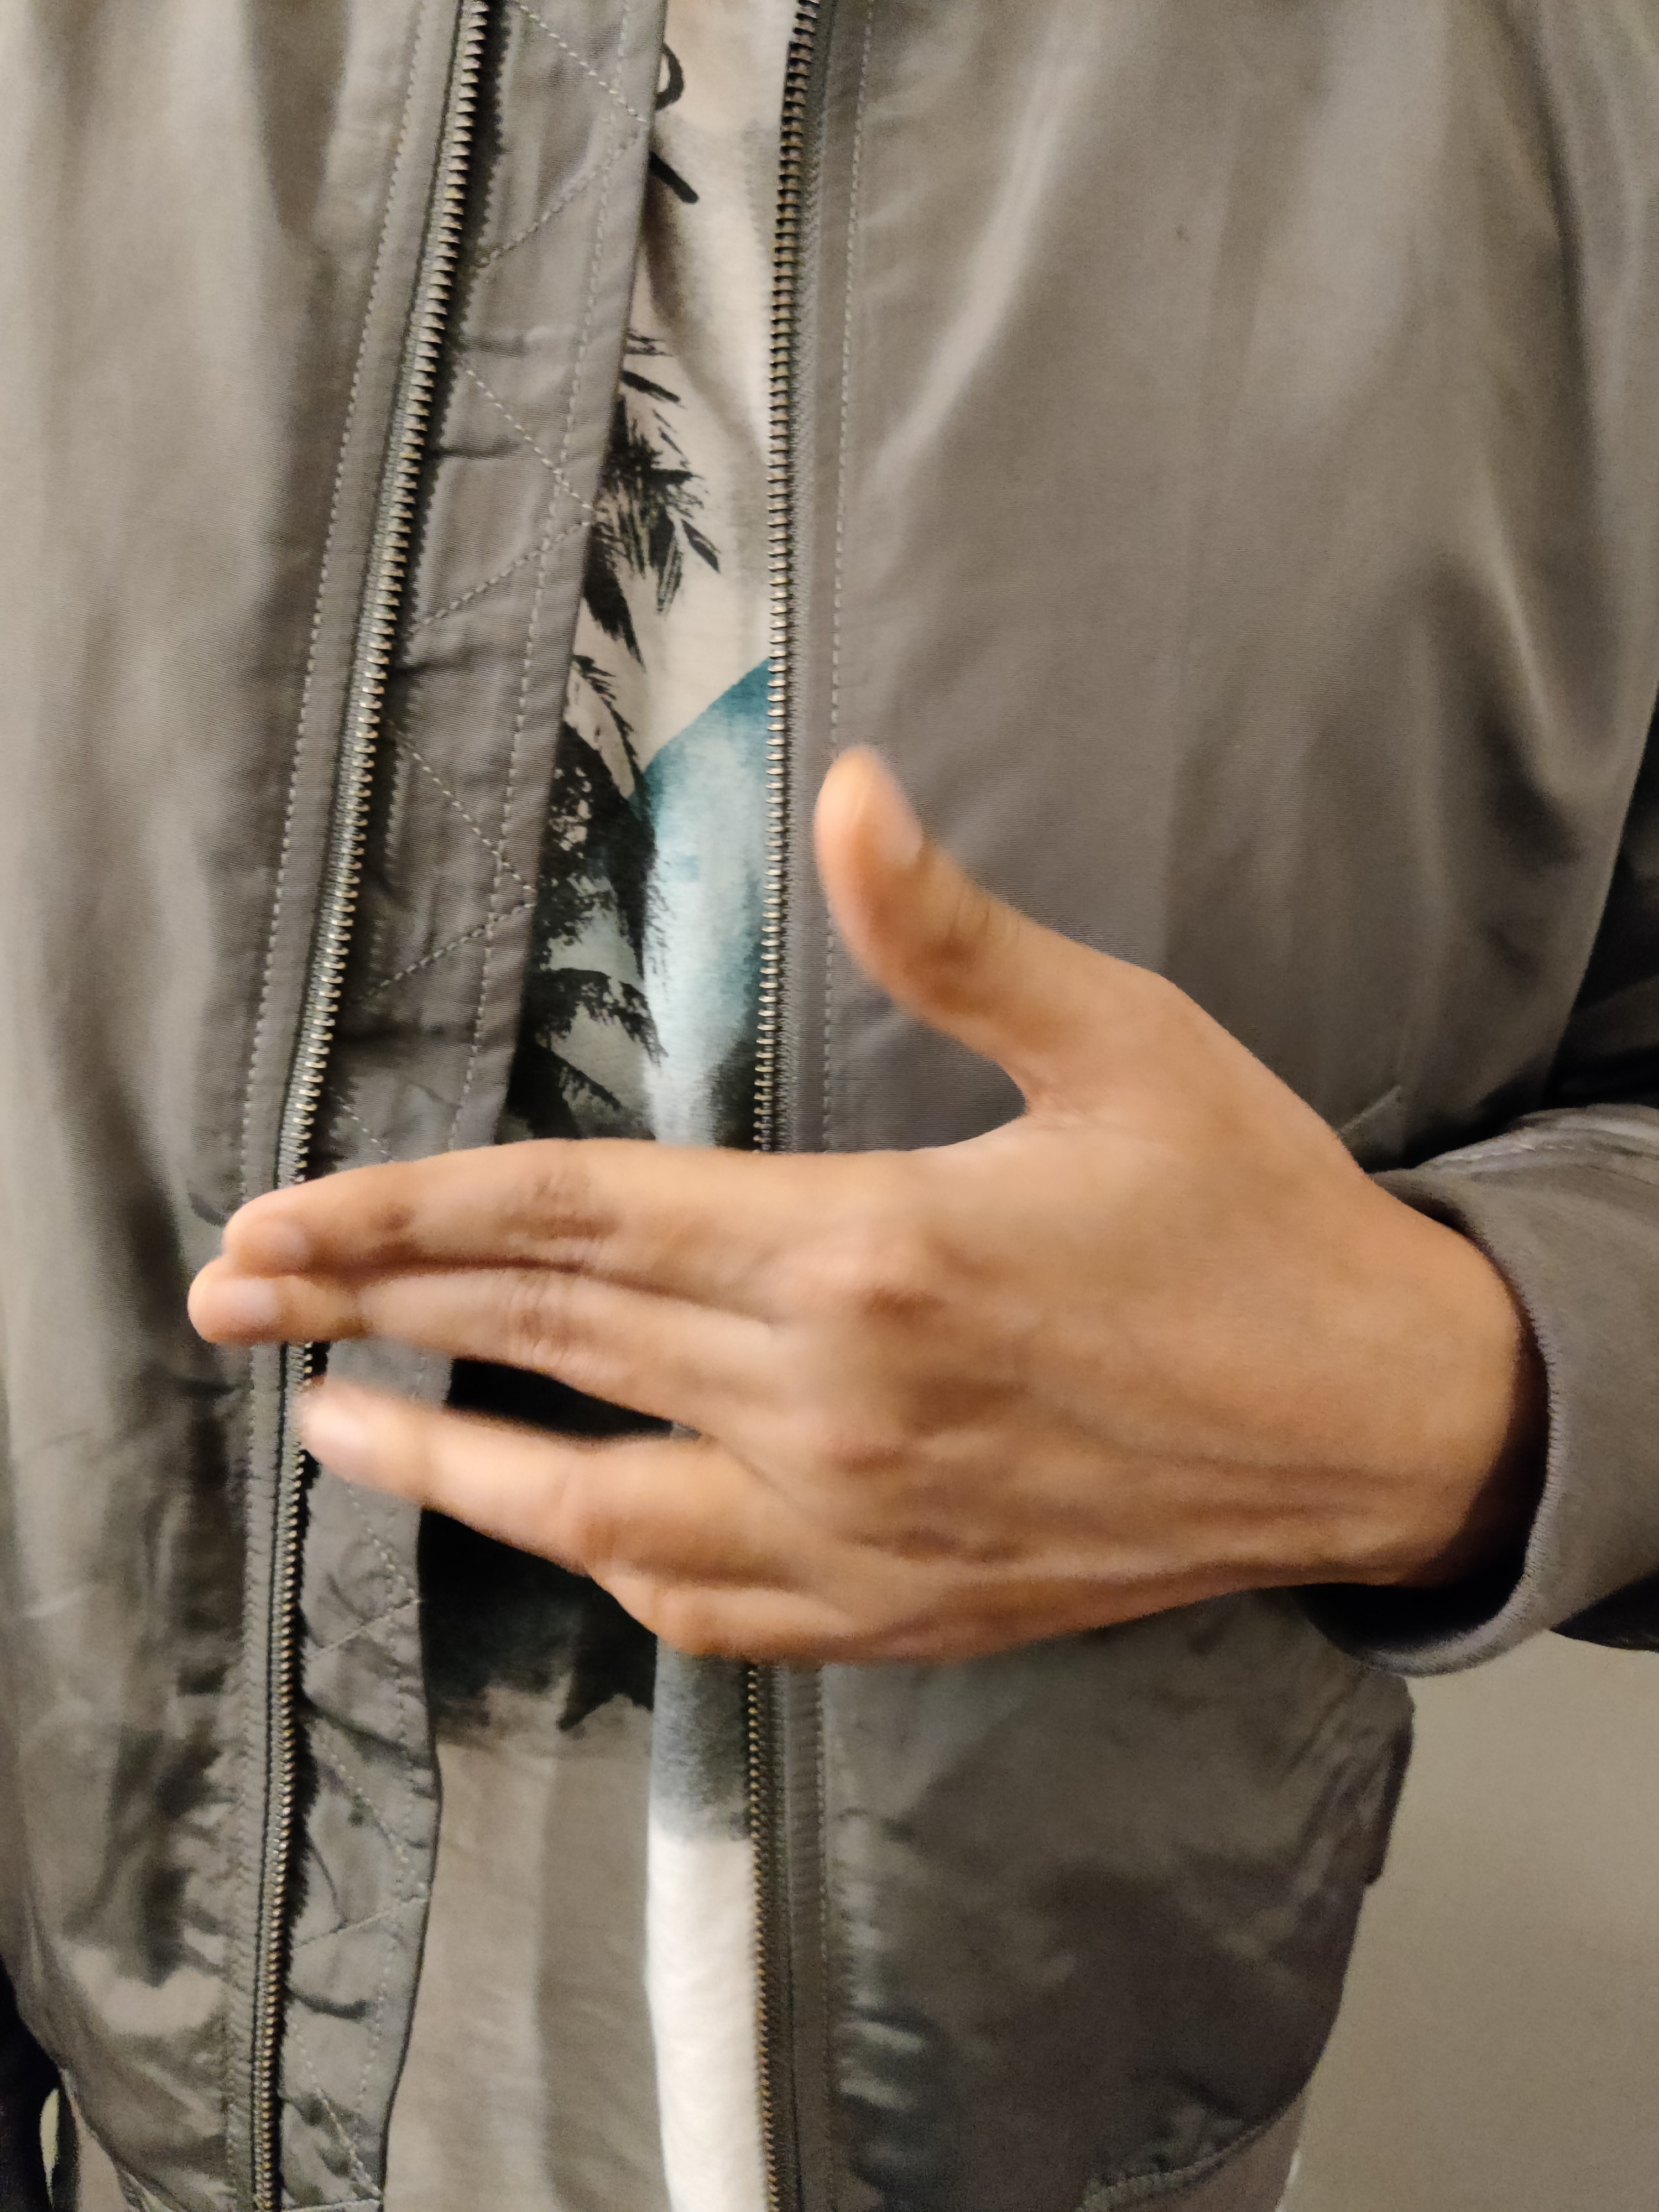right: (73, 728, 1622, 1813)
